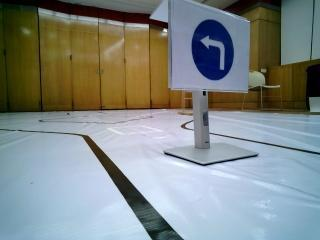left: (177, 6, 249, 89)
